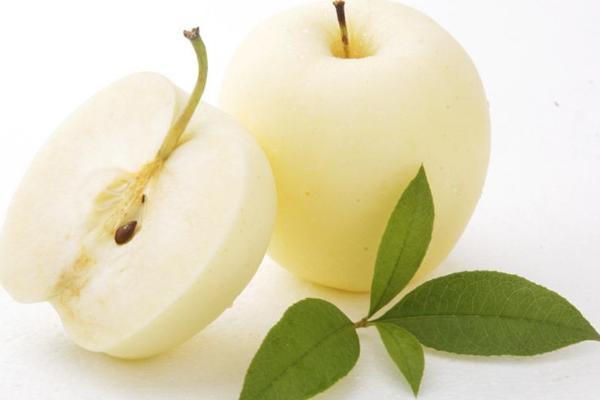apple: (1, 69, 276, 360), (220, 1, 491, 293)
